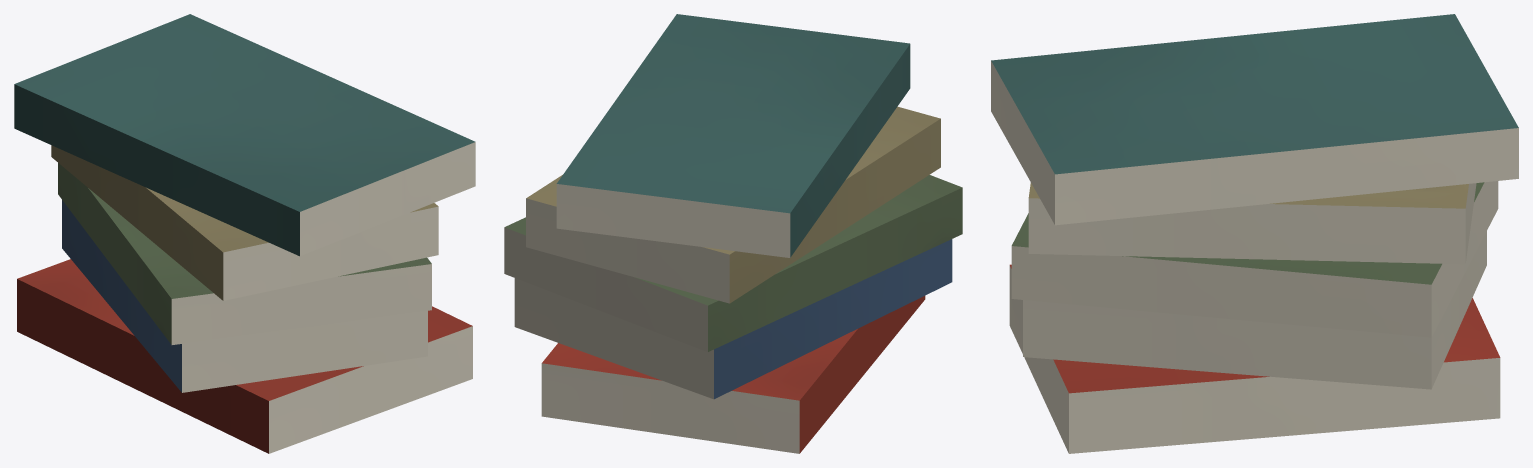
The model's file is books_prison.fbx.
The picture shows the model from 3 angles, left to right: view 1: azimuth 30°, elevation 25°; view 2: azimuth 150°, elevation 25°; view 3: azimuth 270°, elevation 25°; orthographic projection. The views are drawn at different scales.
Visible parts, largest first — view 1: books_prison; view 2: books_prison; view 3: books_prison.
Boxes of the visible parts, box(x1,y1,x2,y2) form: books_prison: box(14, 14, 475, 453); books_prison: box(504, 14, 962, 453); books_prison: box(991, 14, 1518, 453).
Bounding box in the file's own units: 0.1634 × 0.1259 × 0.2169.
Materials: 1 (1 with a texture image).
